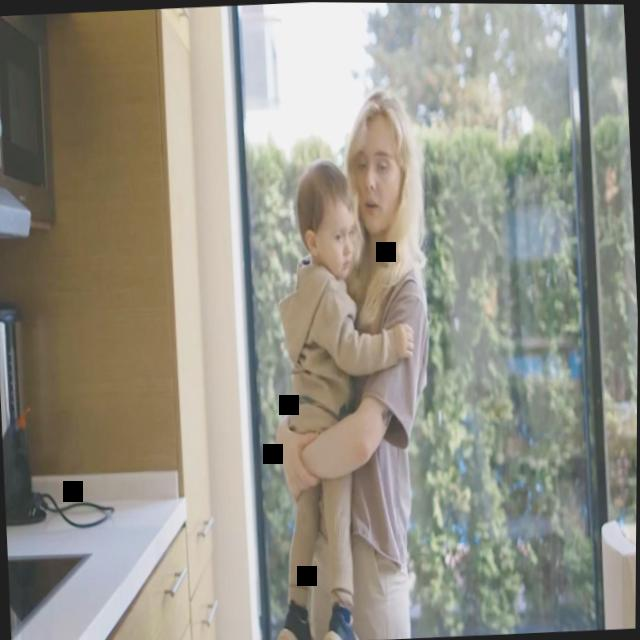NO-Mask: (354, 123, 406, 236), (325, 206, 358, 279)
